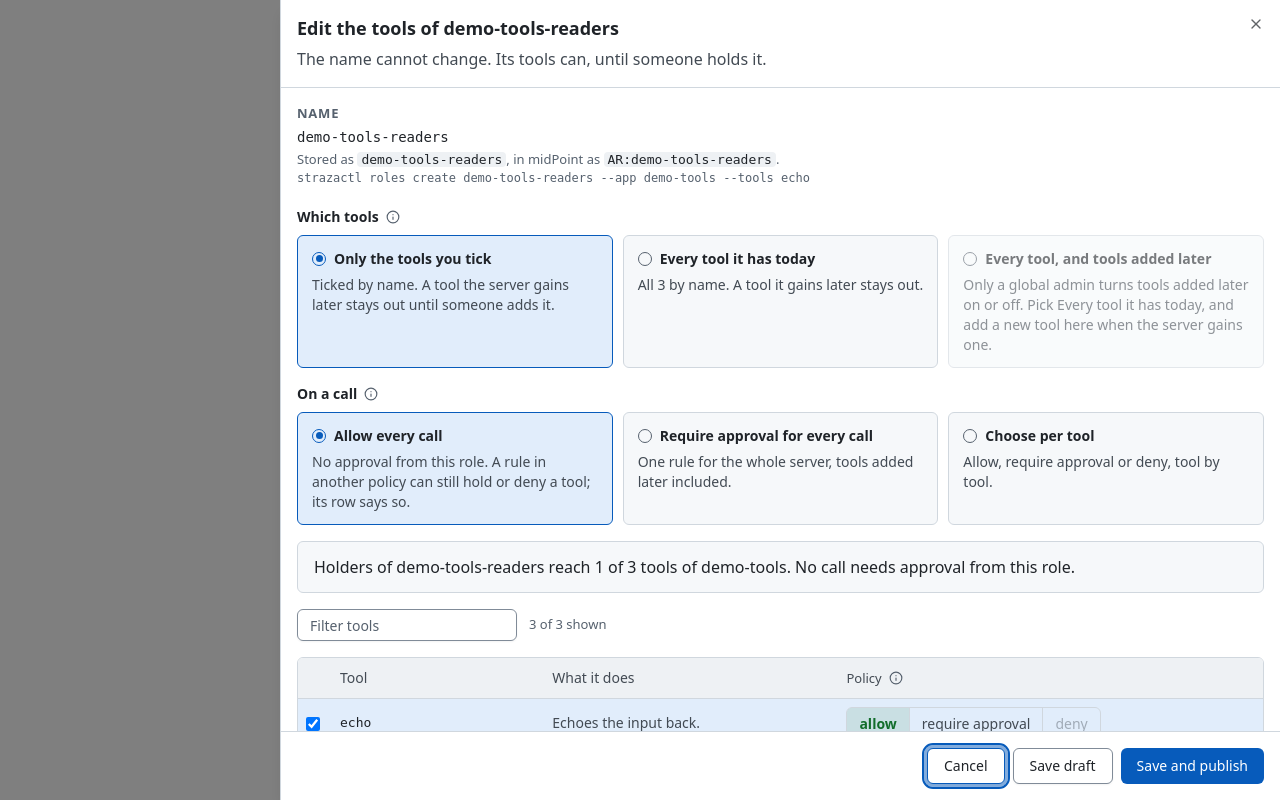
Scenario: the Add role sheet of a server › says nothing changed when an edit would write neither the row nor a rule
Check: the element that starts with "Which tools" is shown, box [297,207,1264,731]
Click the button "Save and publish" at (1192, 766), box [1121,748,1264,784]
(page scrolled)
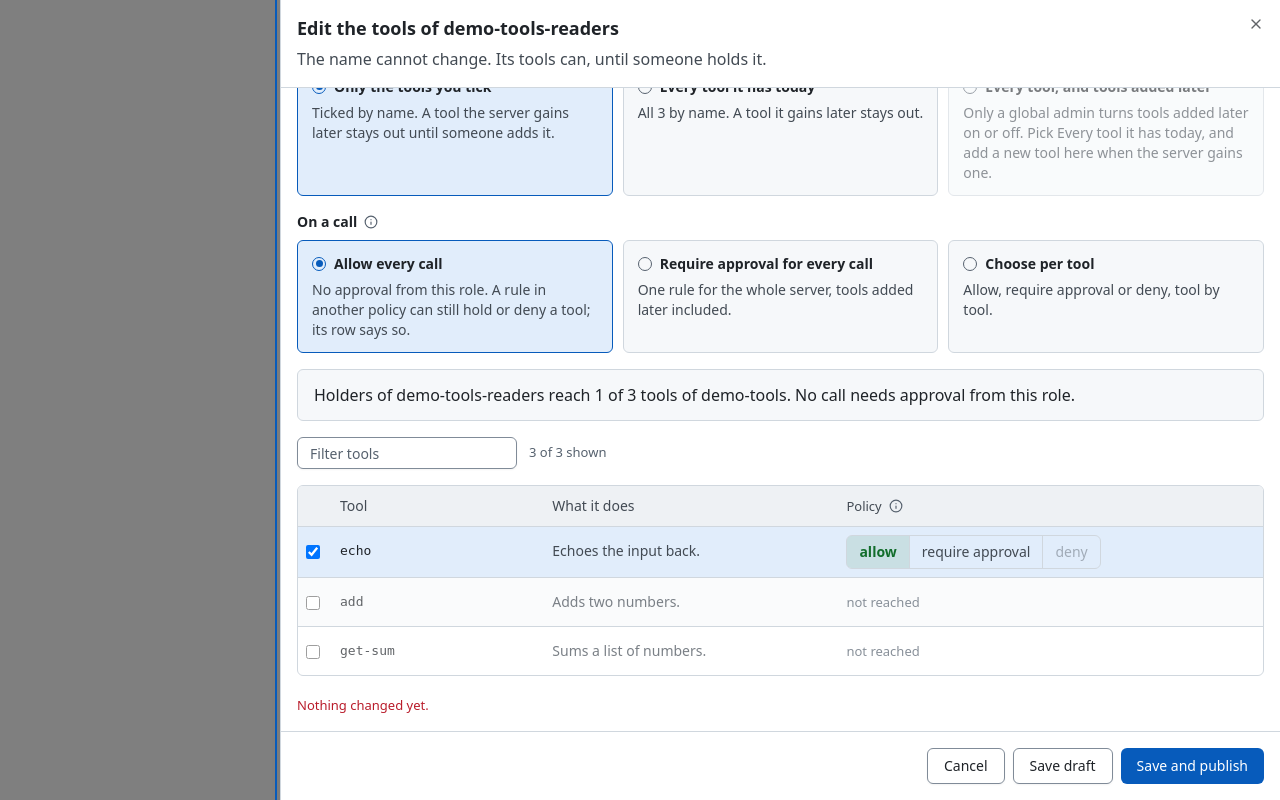
Check: the message "Nothing changed yet." is shown, box [297,696,429,714]
